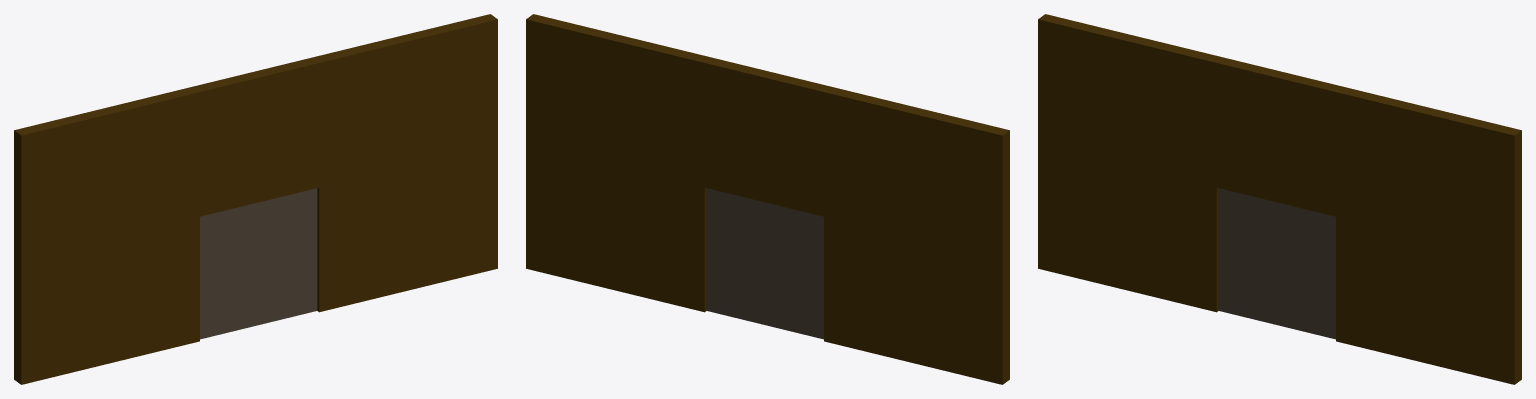
The model's file is BgMD_Door.fbx.
3 views of the same model, side by side, from view 1: azimuth 30°, elevation 25°; view 2: azimuth 150°, elevation 25°; view 3: azimuth 330°, elevation 25° (orthographic).
Visible parts, largest first — view 1: BgMD_Wall, BgMD_Door_Right, BgMD_Door_Left; view 2: BgMD_Wall, BgMD_Door_Right, BgMD_Door_Left; view 3: BgMD_Wall, BgMD_Door_Left, BgMD_Door_Right.
Part boxes in pixels (x1,y1,x2,y2): BgMD_Wall: (14,14,497,384); BgMD_Door_Right: (257,188,317,325); BgMD_Door_Left: (200,202,257,339); BgMD_Wall: (526,14,1009,384); BgMD_Door_Right: (706,188,766,325); BgMD_Door_Left: (766,202,823,339); BgMD_Wall: (1038,14,1521,384); BgMD_Door_Left: (1218,188,1278,325); BgMD_Door_Right: (1278,202,1335,339).
Bounding box in the file's own units: 800 × 400 × 21.41.
